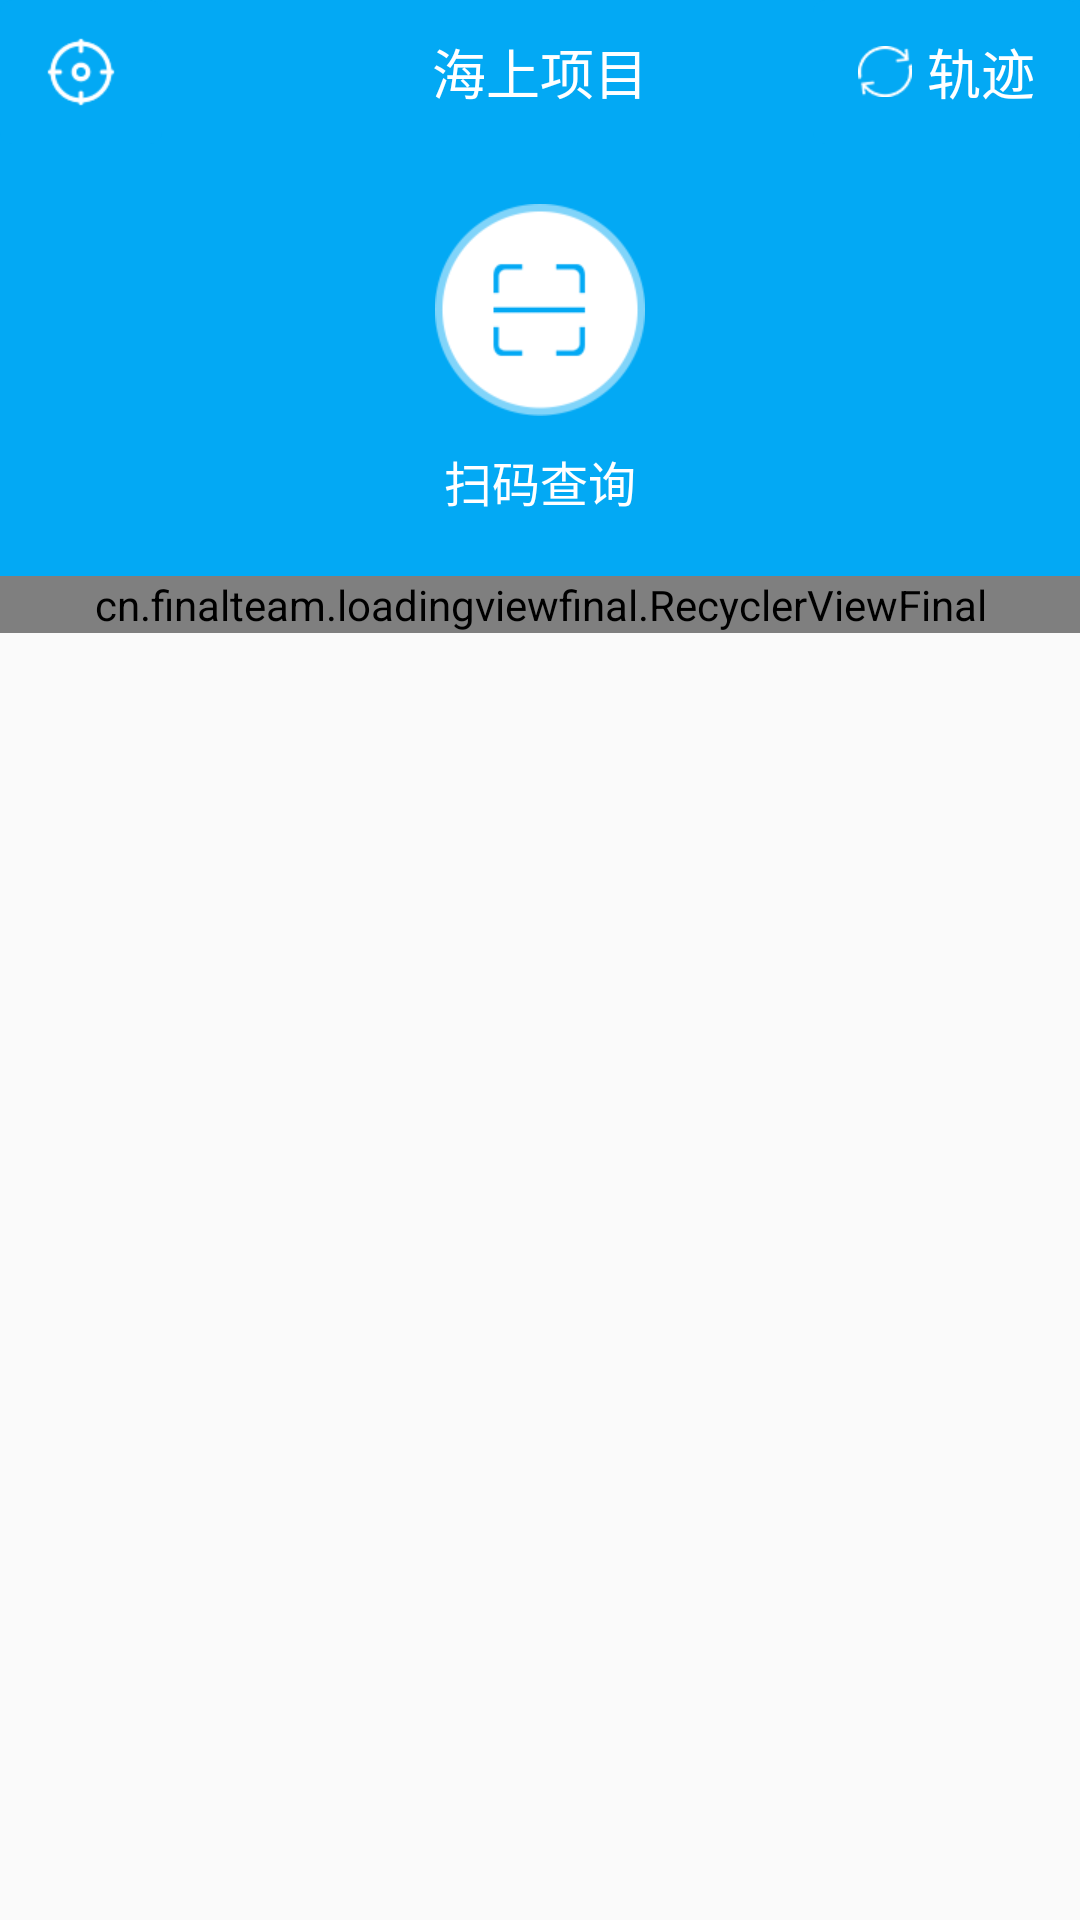

Where to tap for icons on this 1080×1920 app screen, as [x,y]:
location: [81,72]
